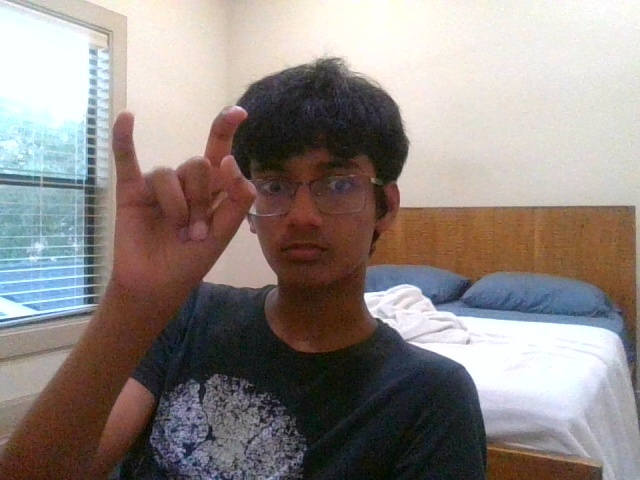ly: (112, 105, 256, 297)
